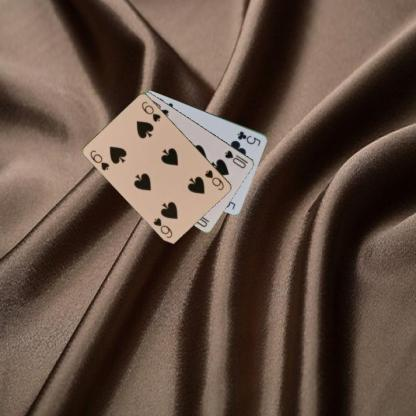10s: (222, 148, 250, 170)
5c: (235, 128, 262, 147)
6s: (88, 147, 111, 172), (202, 167, 225, 191)
